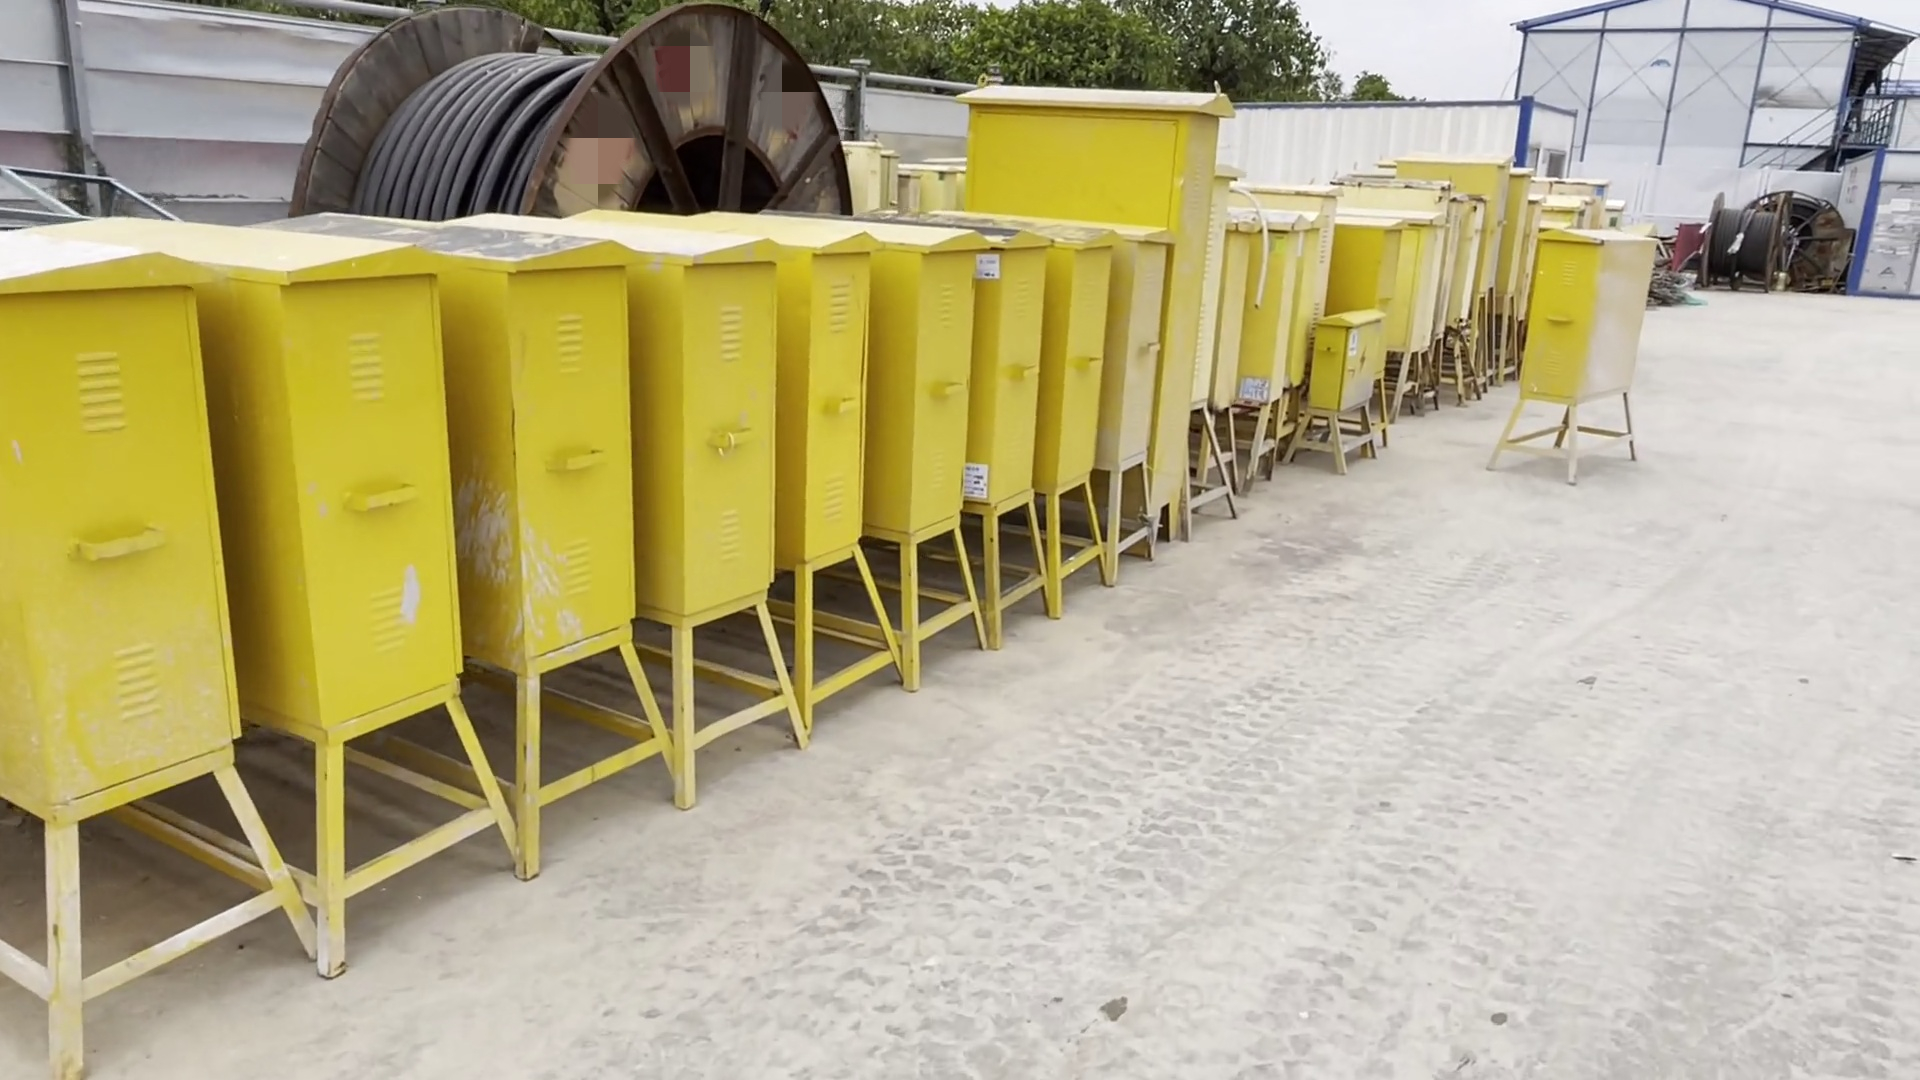ebox: (88, 211, 518, 882), (1, 236, 327, 971), (394, 223, 684, 819), (968, 76, 1211, 535), (624, 214, 807, 756), (760, 214, 911, 702), (1502, 227, 1642, 480), (978, 207, 1054, 626), (909, 227, 965, 698), (1039, 227, 1113, 583), (1098, 216, 1156, 549), (1294, 313, 1379, 471)
